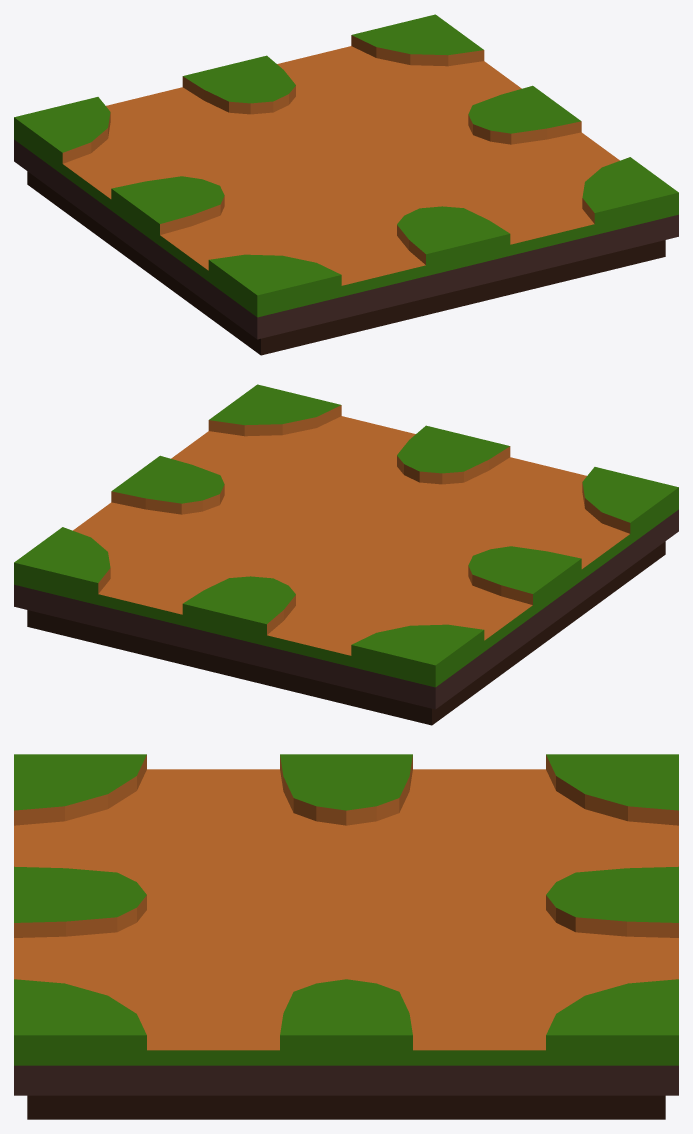
The model's file is Tile_Grass_Road_Cross.fbx.
The picture shows the model from 3 angles, top to bottom: view 1: azimuth 30°, elevation 25°; view 2: azimuth 150°, elevation 25°; view 3: azimuth 270°, elevation 25°; orthographic projection. The views are drawn at different scales.
Parts seen in each view (by area): view 1: Tile_Grass_Road_Cross; view 2: Tile_Grass_Road_Cross; view 3: Tile_Grass_Road_Cross.
Part boxes in pixels (x1=…): Tile_Grass_Road_Cross: x1=14, y1=14, x2=678, y2=355; Tile_Grass_Road_Cross: x1=14, y1=384, x2=678, y2=725; Tile_Grass_Road_Cross: x1=14, y1=754, x2=678, y2=1119.
Bounding box in the file's own units: 100 × 14.9 × 100.
